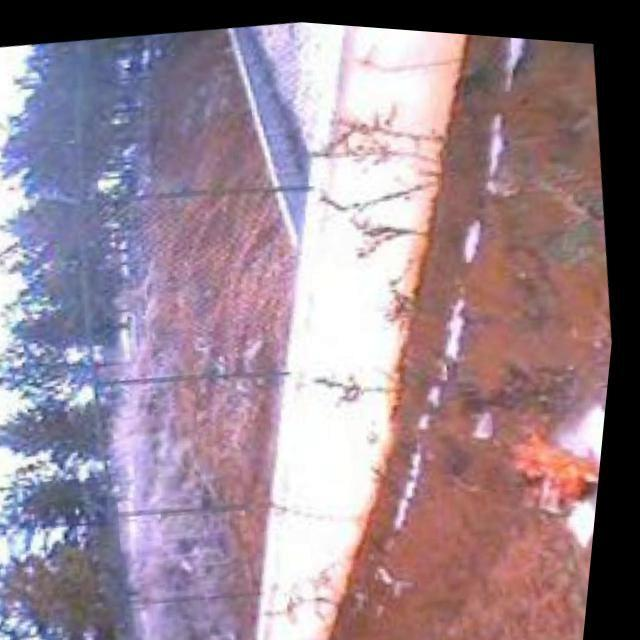fire: (496, 402, 612, 514)
